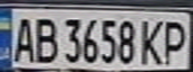3: (57, 15, 81, 64)
5: (96, 16, 121, 64)
6: (78, 16, 100, 64)
8: (115, 16, 139, 65)
A: (9, 12, 36, 64)
B: (30, 13, 60, 64)
K: (136, 16, 166, 65)
P: (160, 16, 190, 65)
